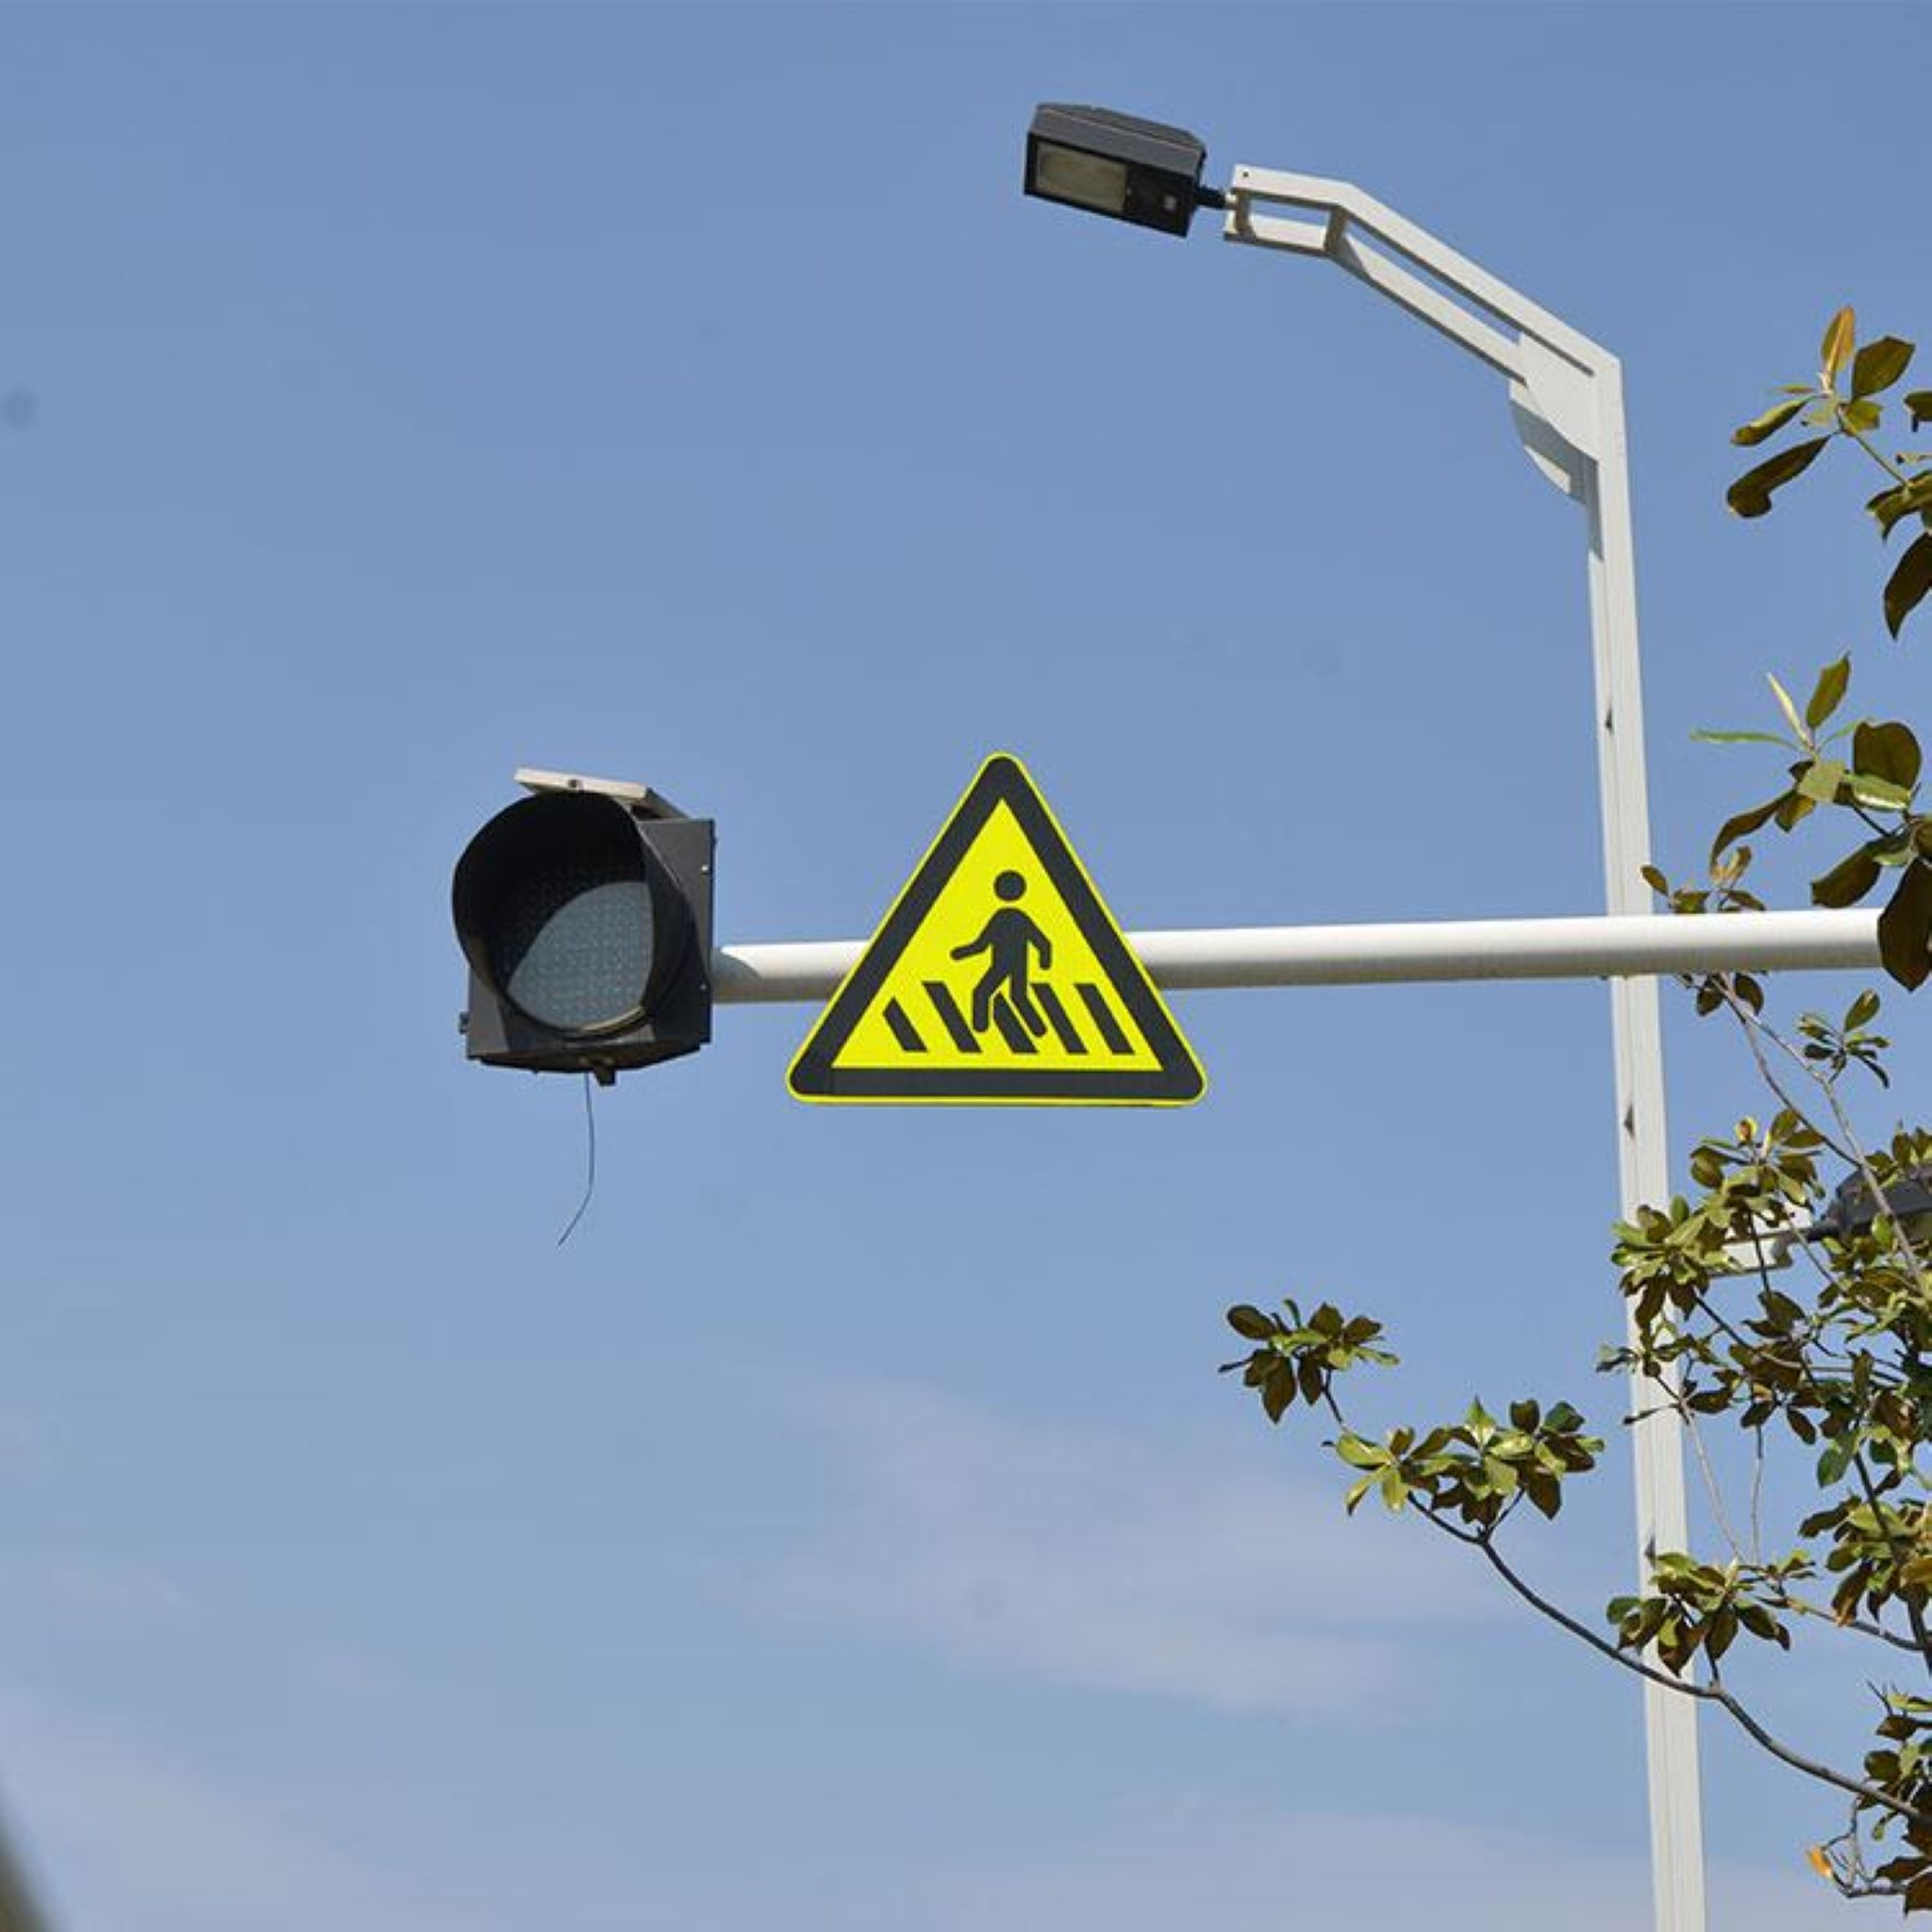w57: (793, 759, 1203, 1097)
